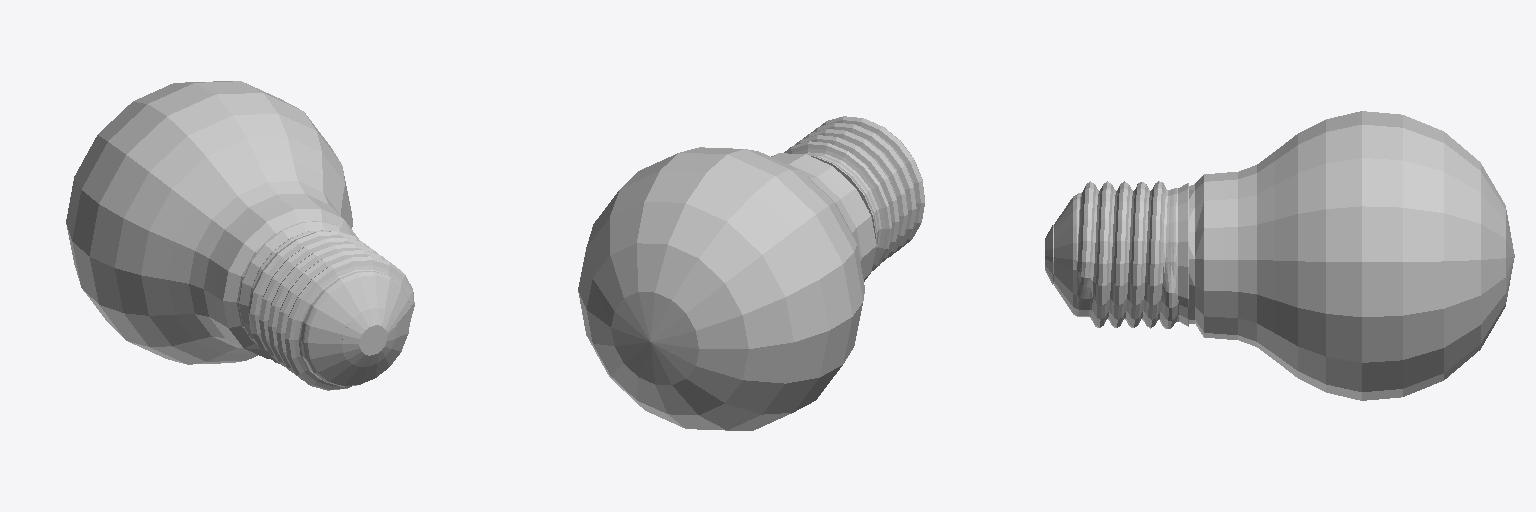
Rendered from light.obj.
3 renders of one model, left to right at view 1: azimuth 30°, elevation 25°; view 2: azimuth 150°, elevation 25°; view 3: azimuth 270°, elevation 25°, orthographic.
Visible parts, largest first — view 1: bulb, screw_part; view 2: bulb, screw_part; view 3: bulb, screw_part.
Boxes of the visible parts, x1,y1,x2,y2 form: bulb: [66, 81, 358, 364]; screw_part: [239, 221, 414, 390]; bulb: [578, 147, 876, 430]; screw_part: [784, 116, 924, 270]; bulb: [1189, 111, 1514, 400]; screw_part: [1045, 181, 1188, 328].
Size of the model in its own units: 0.2944 by 0.2944 by 0.4764.